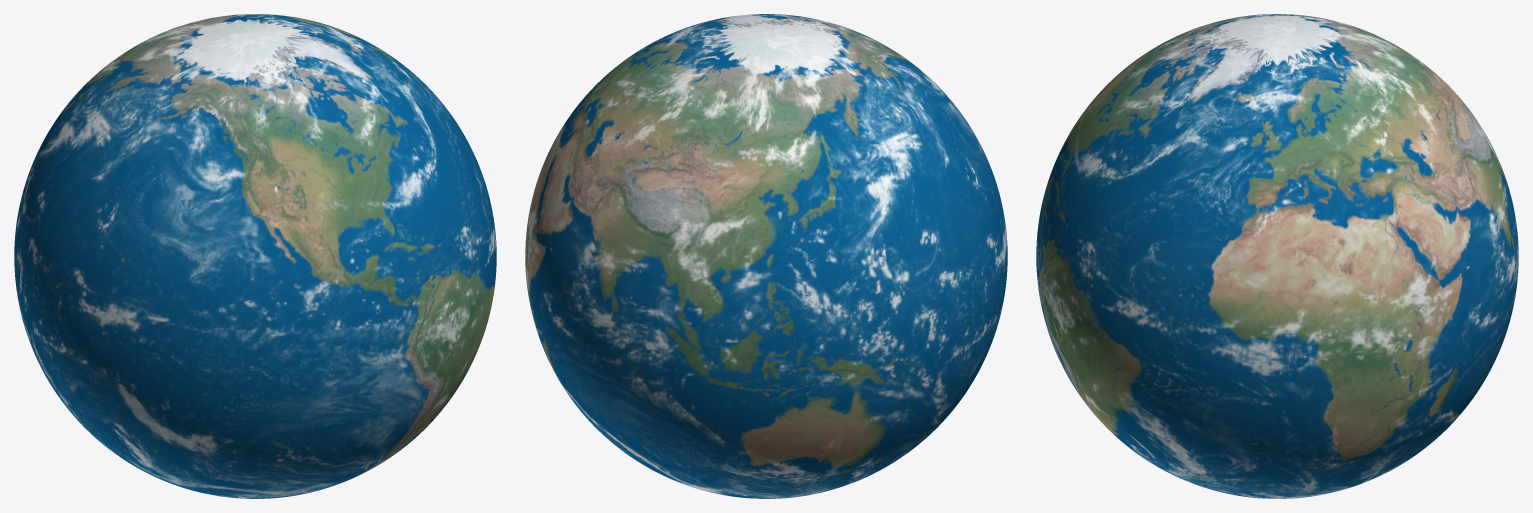
Rendered from Earth.gltf.
The picture shows the model from 3 angles, left to right: view 1: azimuth 30°, elevation 25°; view 2: azimuth 150°, elevation 25°; view 3: azimuth 270°, elevation 25°; orthographic projection.
Visible parts, largest first — view 1: Sphere_2; view 2: Sphere_2; view 3: Sphere_2.
Part boxes in pixels (x1=…): Sphere_2: x1=14, y1=14, x2=496, y2=498; Sphere_2: x1=525, y1=14, x2=1007, y2=498; Sphere_2: x1=1036, y1=14, x2=1518, y2=498.
Bounding box in the file's own units: 2.23 × 2.25 × 2.23.
1 material, 1 textured.
